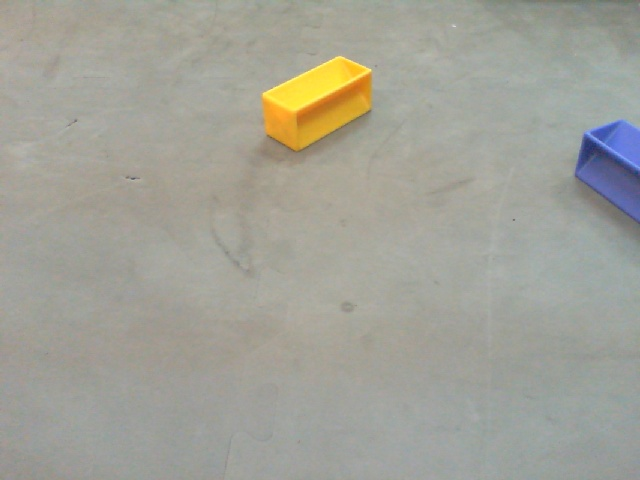BlueSample: (569, 112, 640, 232)
YellowSample: (254, 52, 374, 151)
